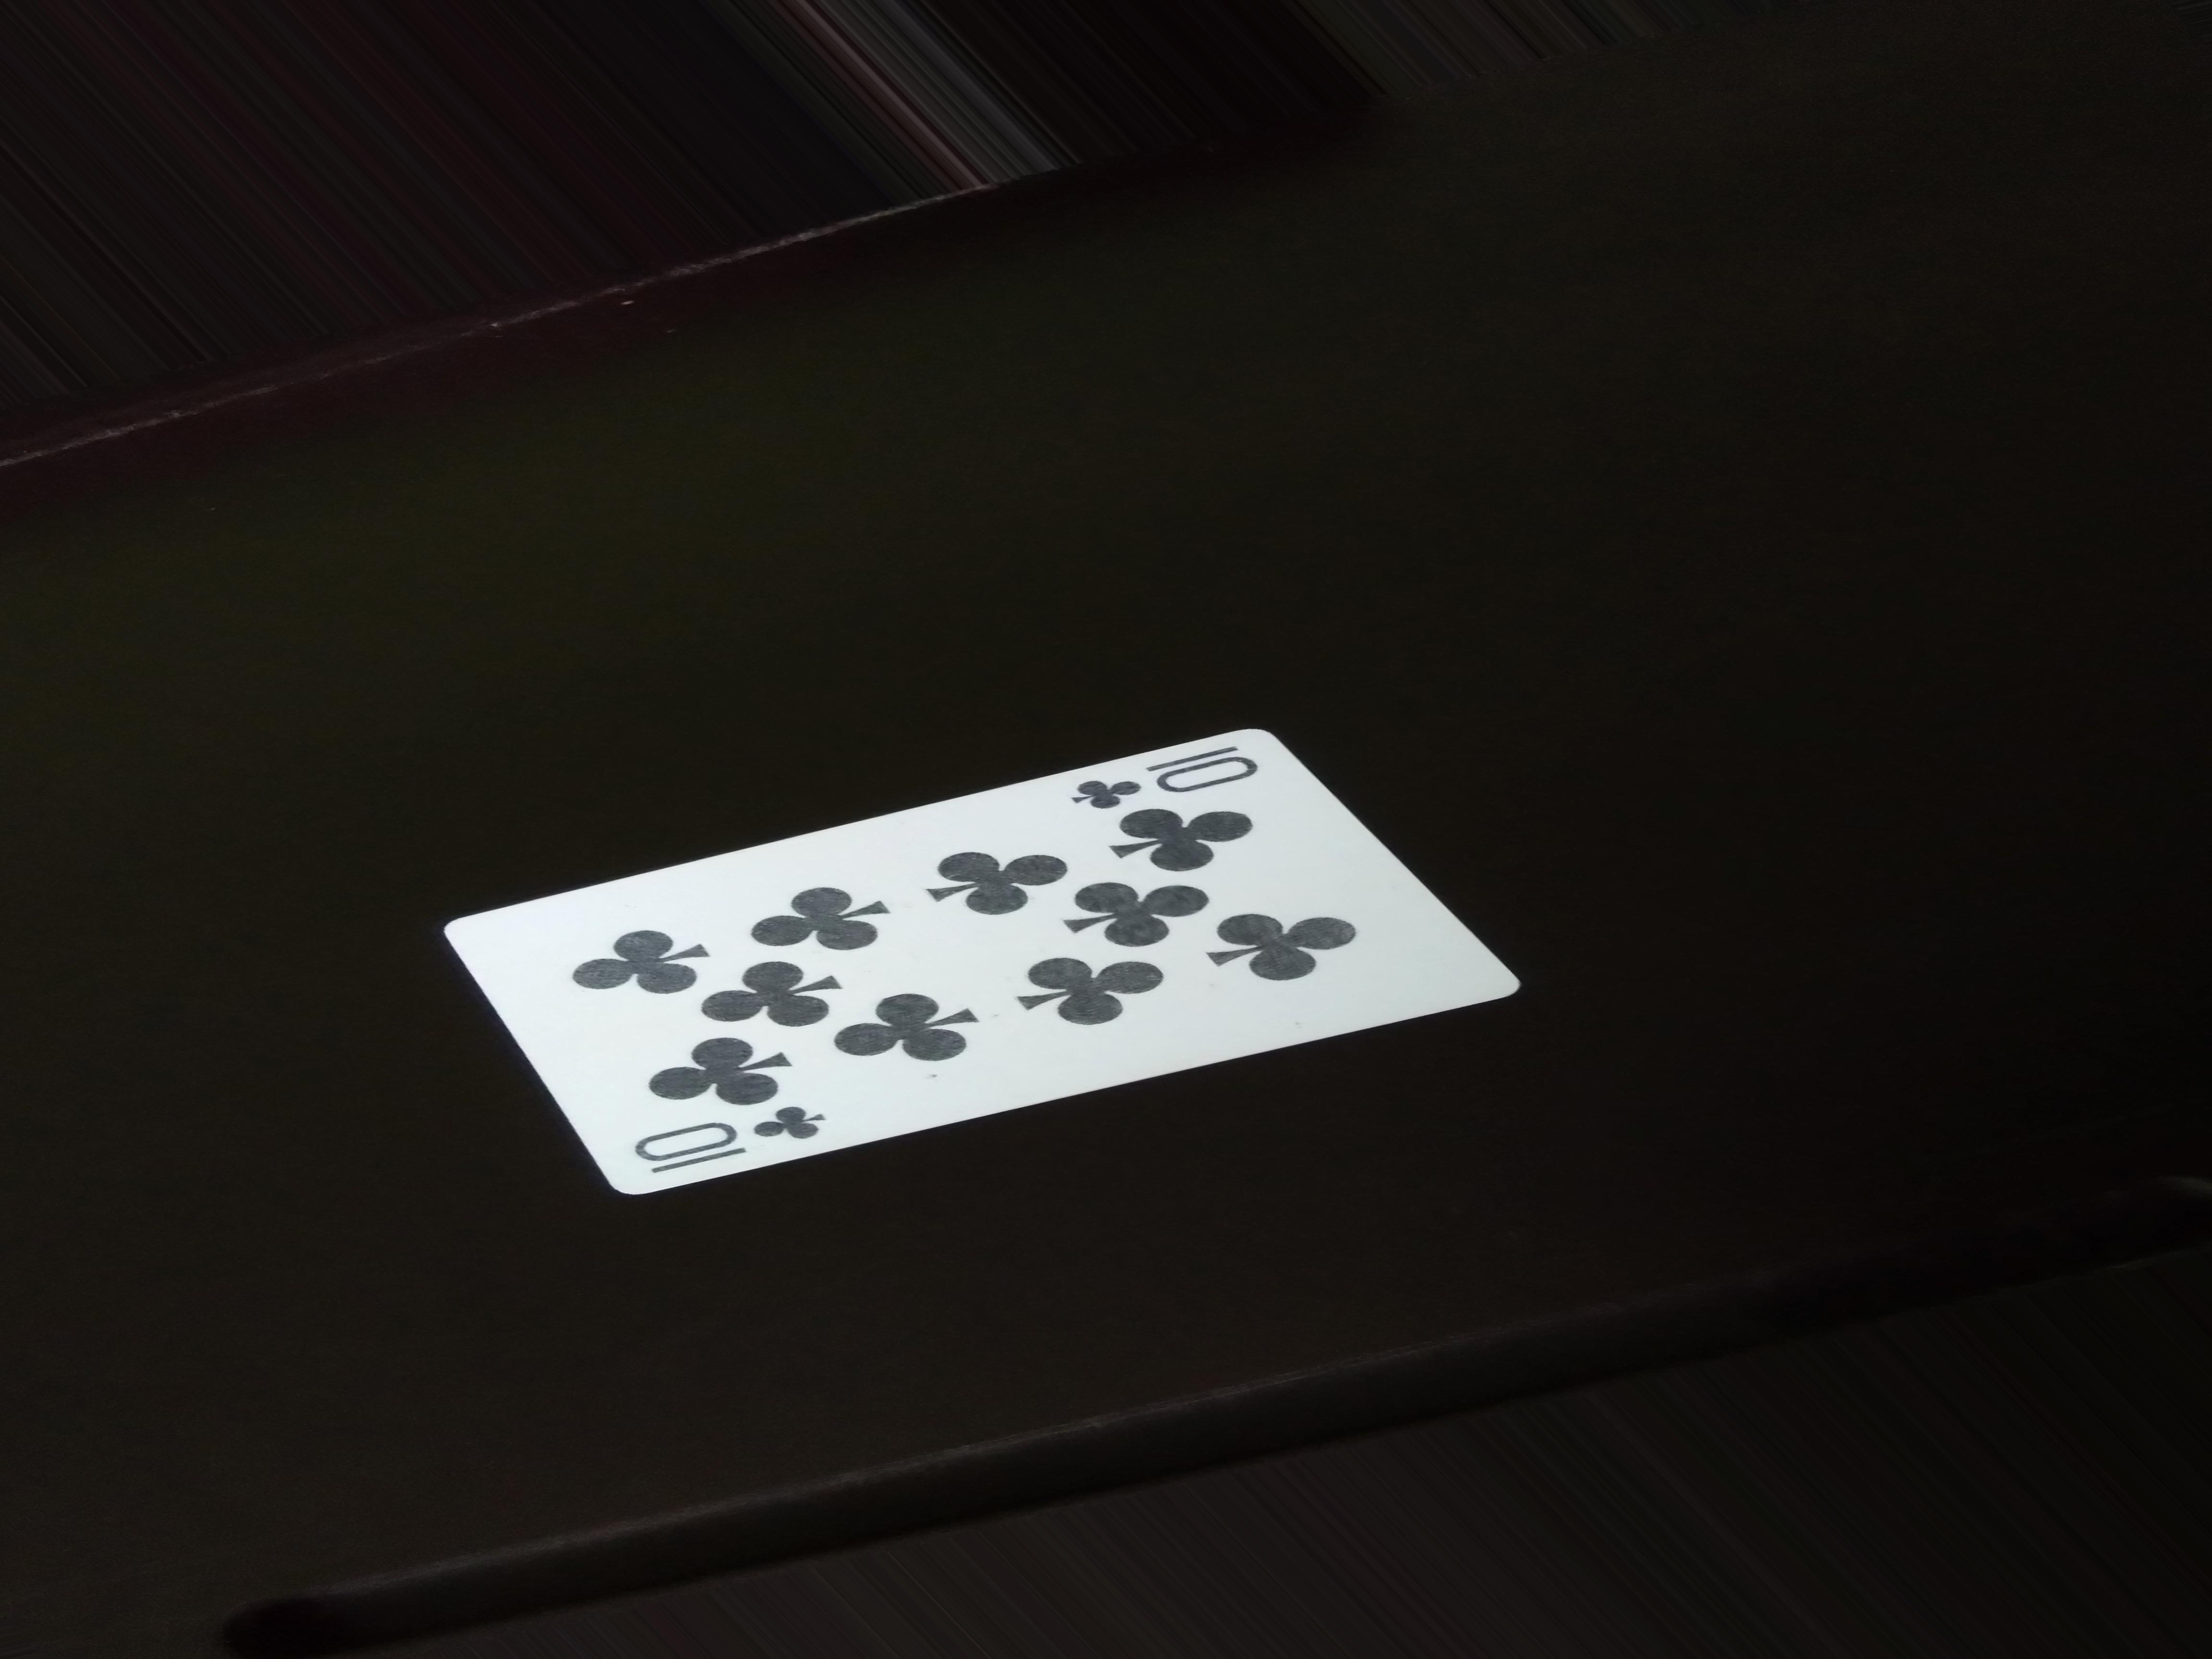10C: (624, 1100, 834, 1161)
